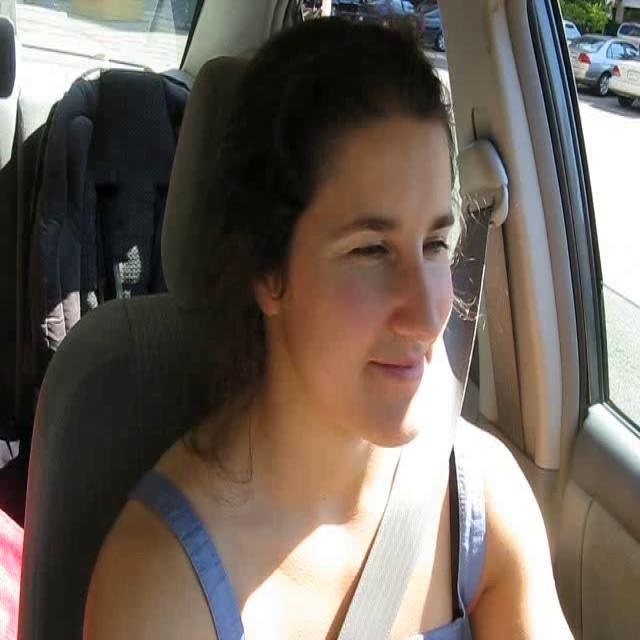close: (369, 348, 430, 392)
